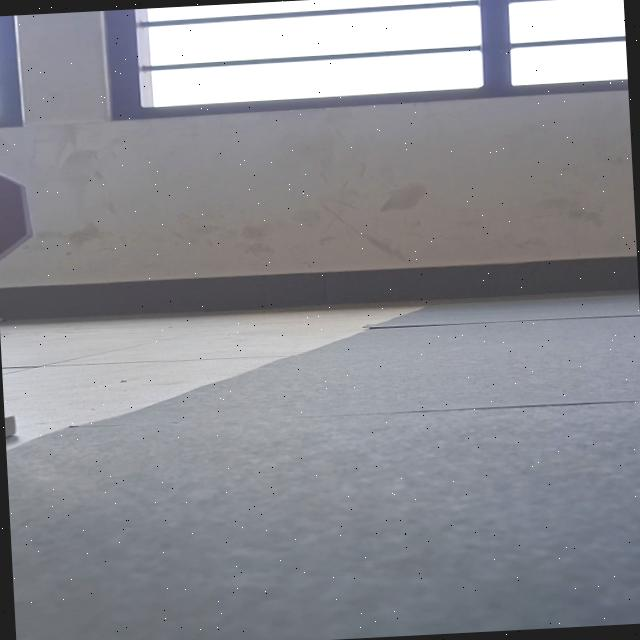Stop: (0, 159, 37, 275)
